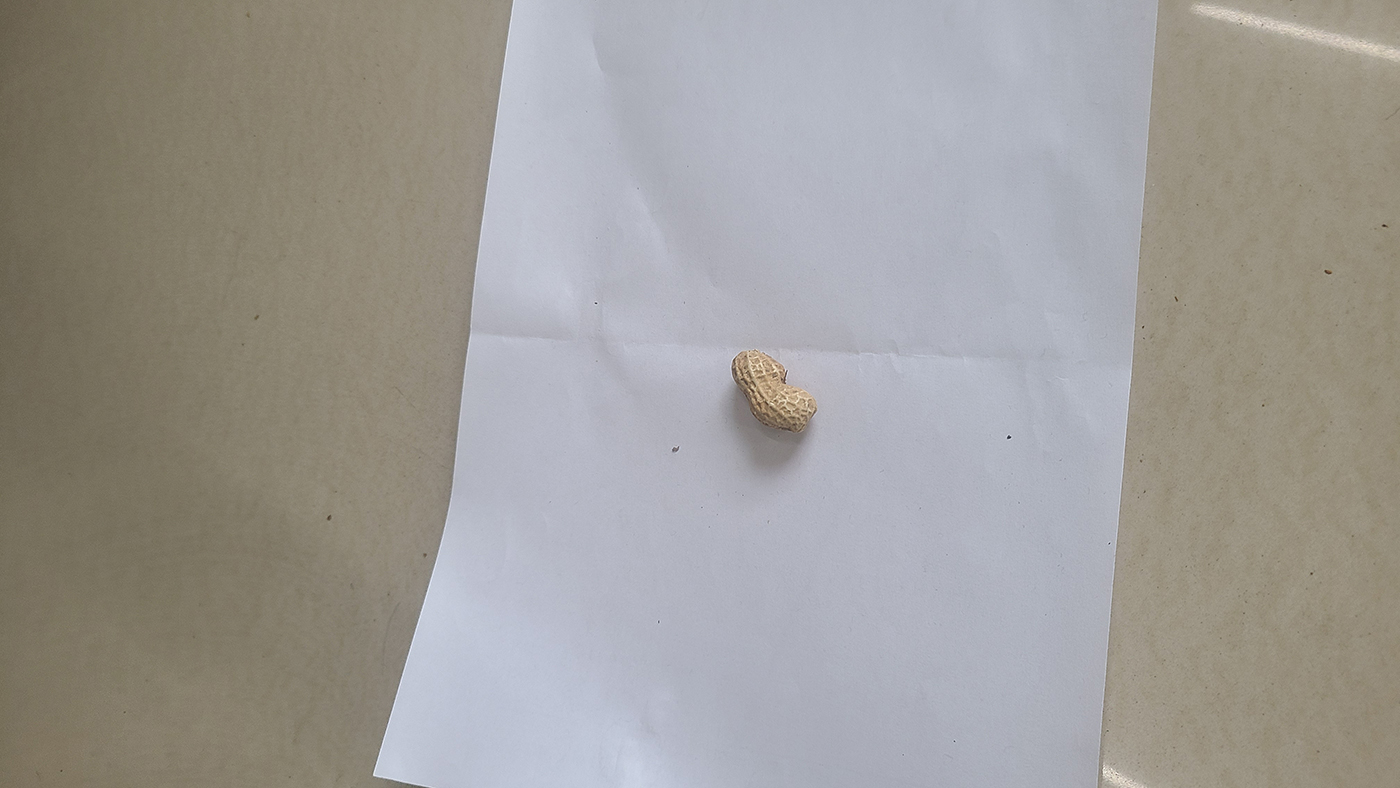h: (731, 348, 818, 433)
